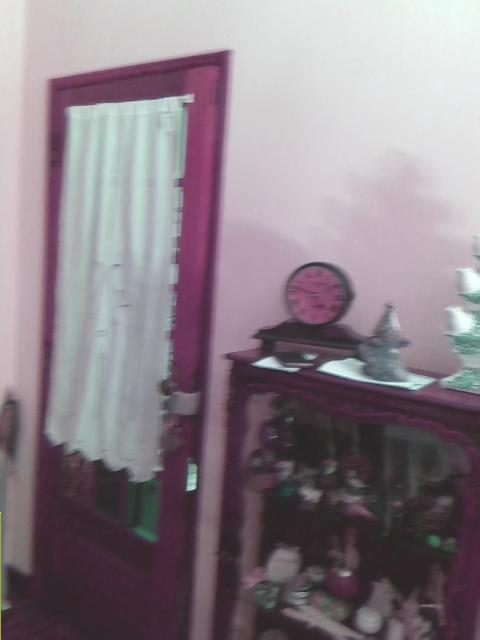closed_door: (33, 49, 231, 639)
